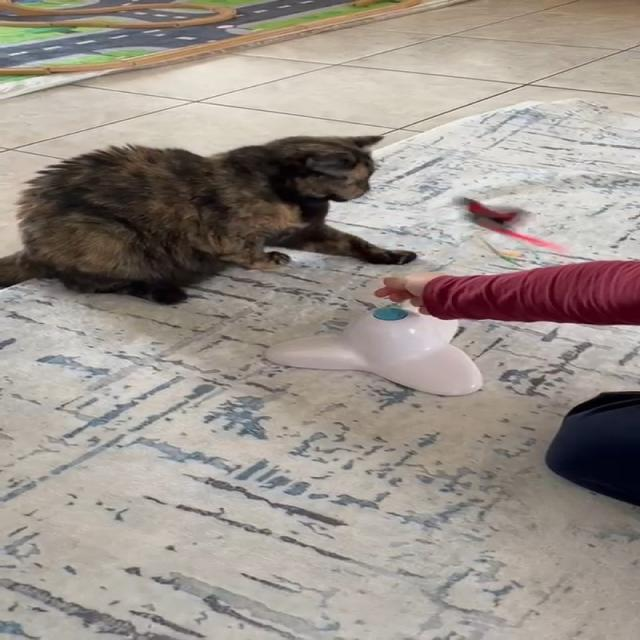authorized: (0, 132, 417, 305)
